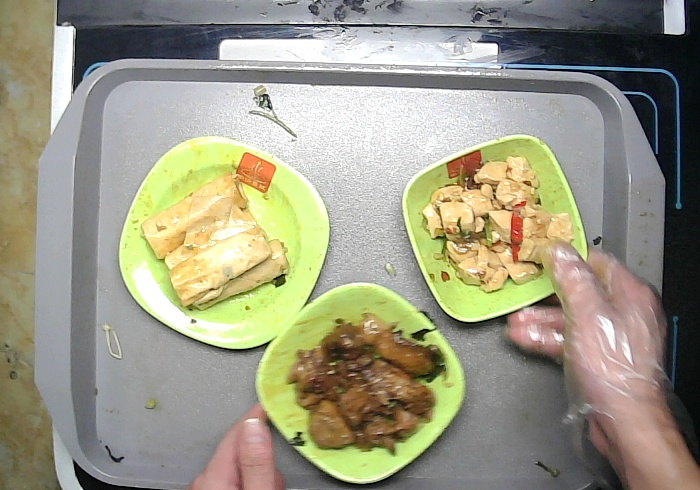SHKJ-Lv_Se_Cai_Die: (251, 279, 469, 484)
SHKJ-Lv_Se_Si_Fang_Cai_Die: (116, 134, 332, 352)
SHKJ-Lv_Se_Xiao_Fang_Die: (400, 132, 590, 323)
